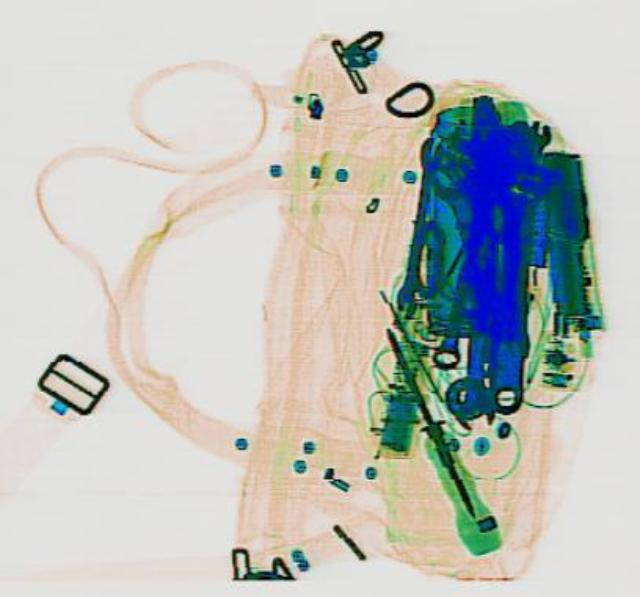Wrench: (515, 119, 551, 195)
